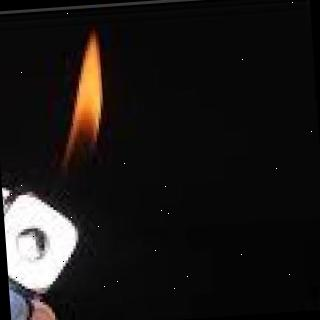fire: (48, 20, 122, 215)
